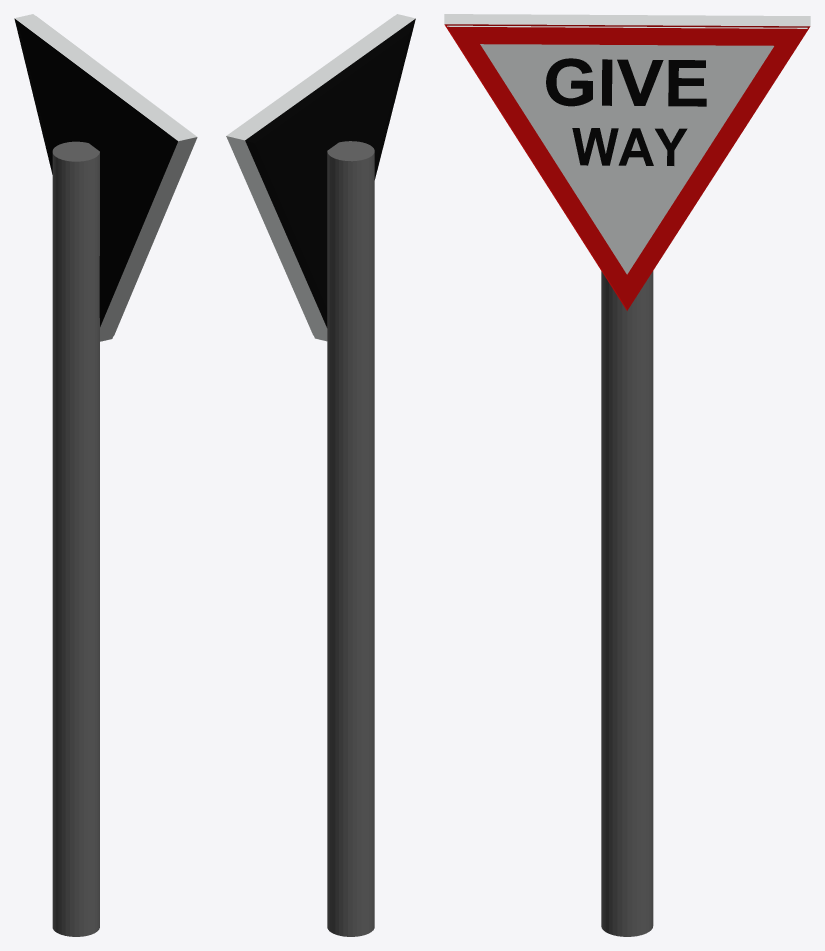
Rendered from uk_give_way(taller).fbx.
The picture shows the model from 3 angles, left to right: view 1: azimuth 30°, elevation 25°; view 2: azimuth 150°, elevation 25°; view 3: azimuth 270°, elevation 25°; orthographic projection. The views are drawn at different scales.
Parts seen in each view (by area): view 1: Cylinder, Circle; view 2: Cylinder, Circle; view 3: Circle, Cylinder, Text, Text.001.
Part boxes in pixels (bbox=[...]): Cylinder: bbox=[52, 141, 99, 936]; Circle: bbox=[14, 14, 197, 341]; Cylinder: bbox=[327, 141, 374, 936]; Circle: bbox=[226, 14, 415, 341]; Circle: bbox=[444, 14, 810, 310]; Cylinder: bbox=[601, 271, 653, 936]; Text: bbox=[546, 58, 706, 106]; Text.001: bbox=[572, 128, 687, 165].
Bounding box in the file's own units: 1.53 × 19.56 × 7.05.
